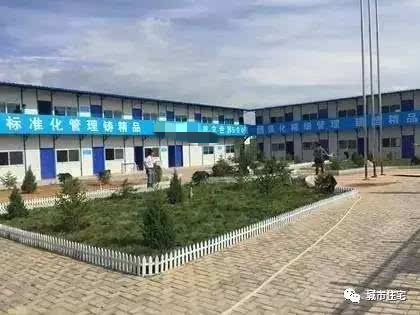slogan: (254, 112, 420, 134), (2, 113, 148, 137)
